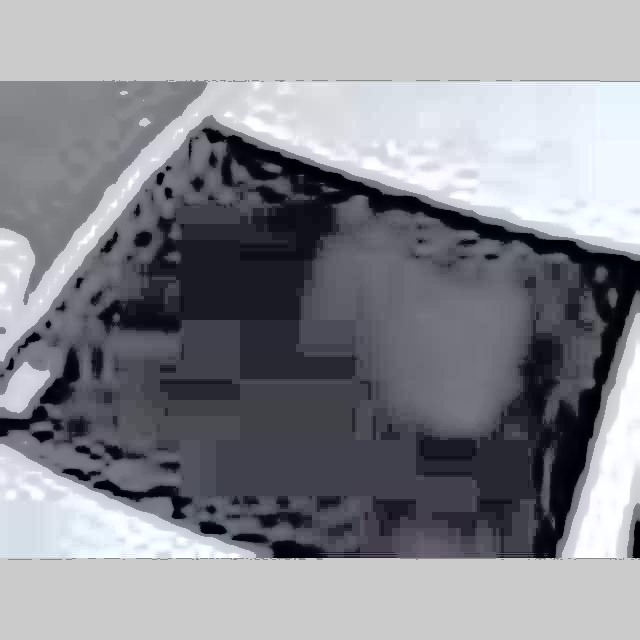tidak-pakai: (253, 186, 543, 469)
